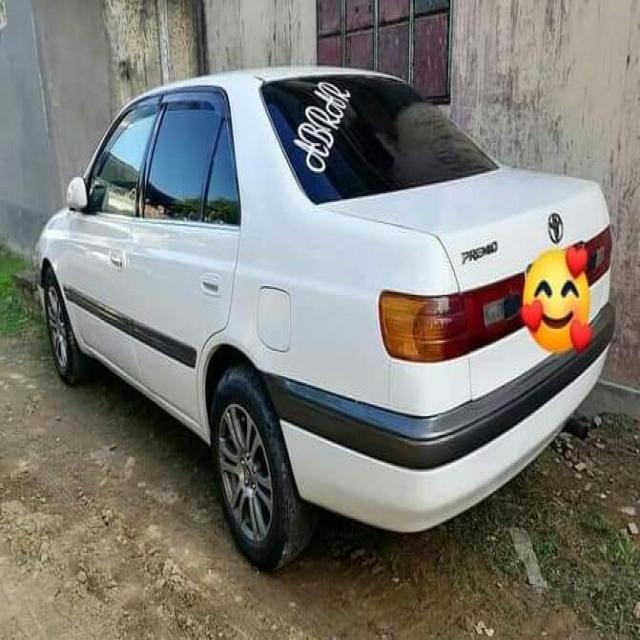white: (36, 67, 628, 558)
